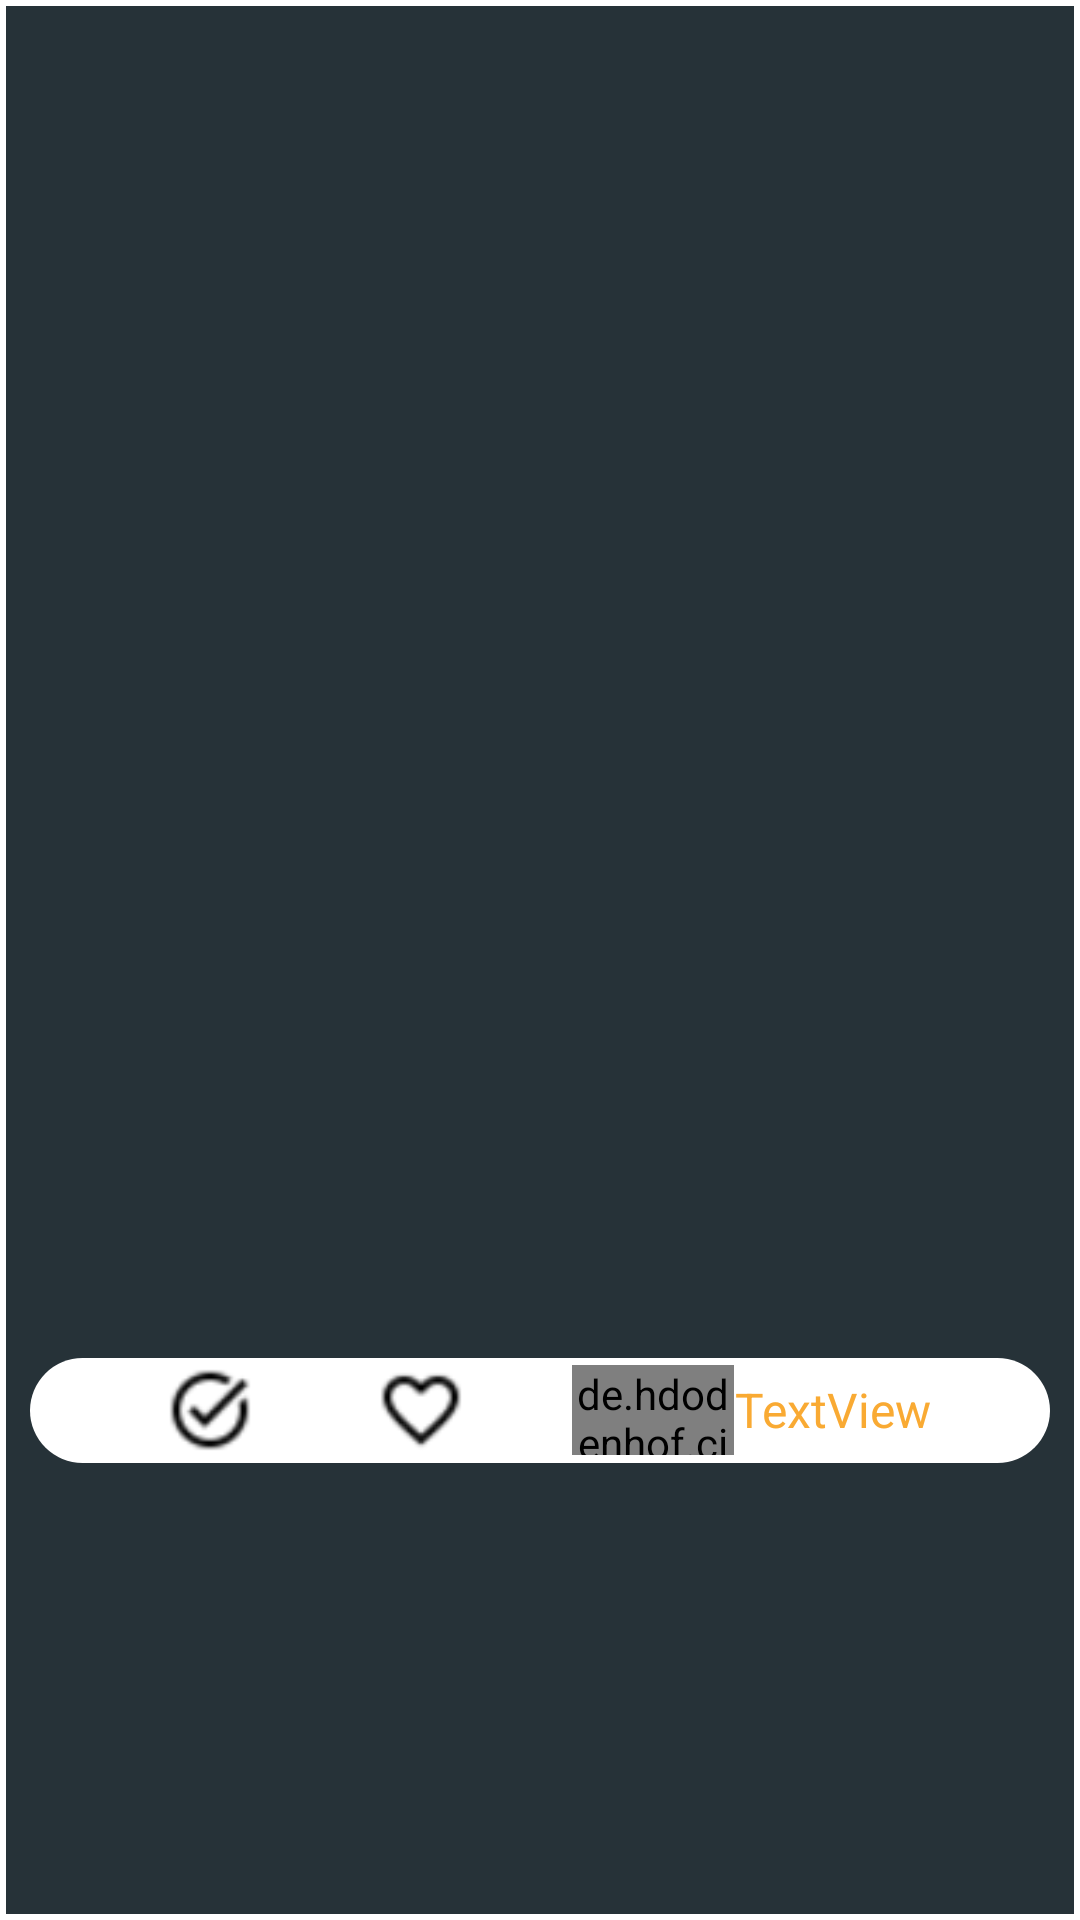

Icon bounding boxes for this 1080x1920 phone screenshot, format (x1, y1, x2, y2):
ckechk: (170, 1370, 250, 1450)
fallow: (381, 1374, 461, 1446)
